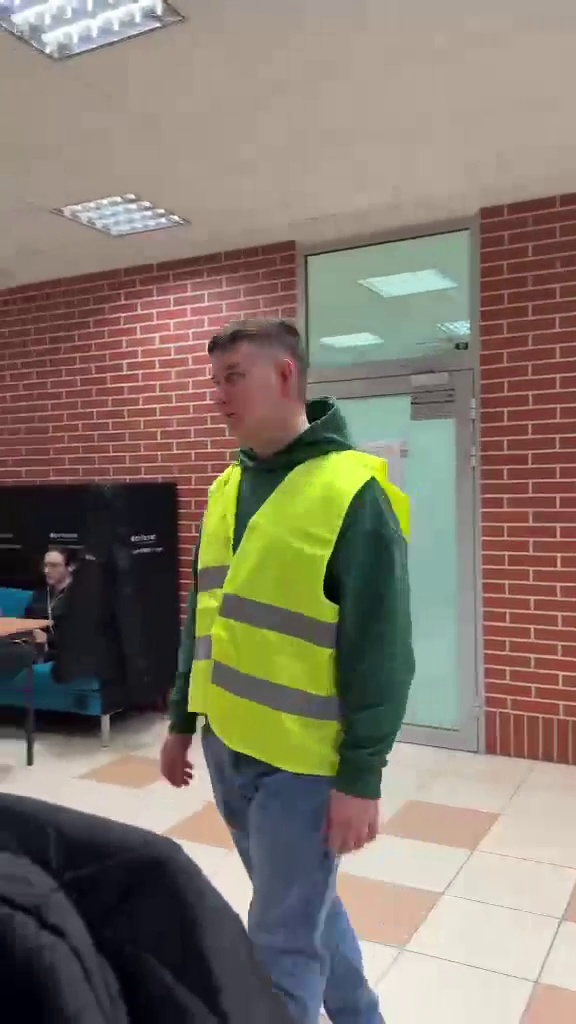vest: (175, 317, 419, 1023)
